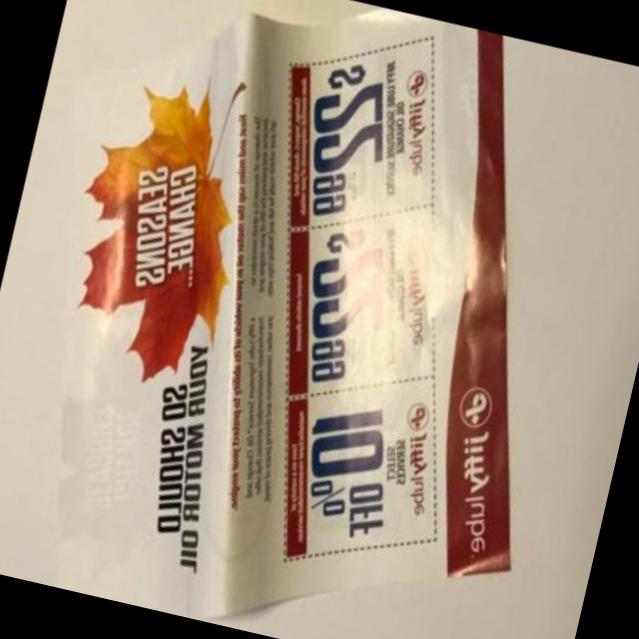cardboard paper: (51, 8, 509, 617), (54, 8, 509, 616)
